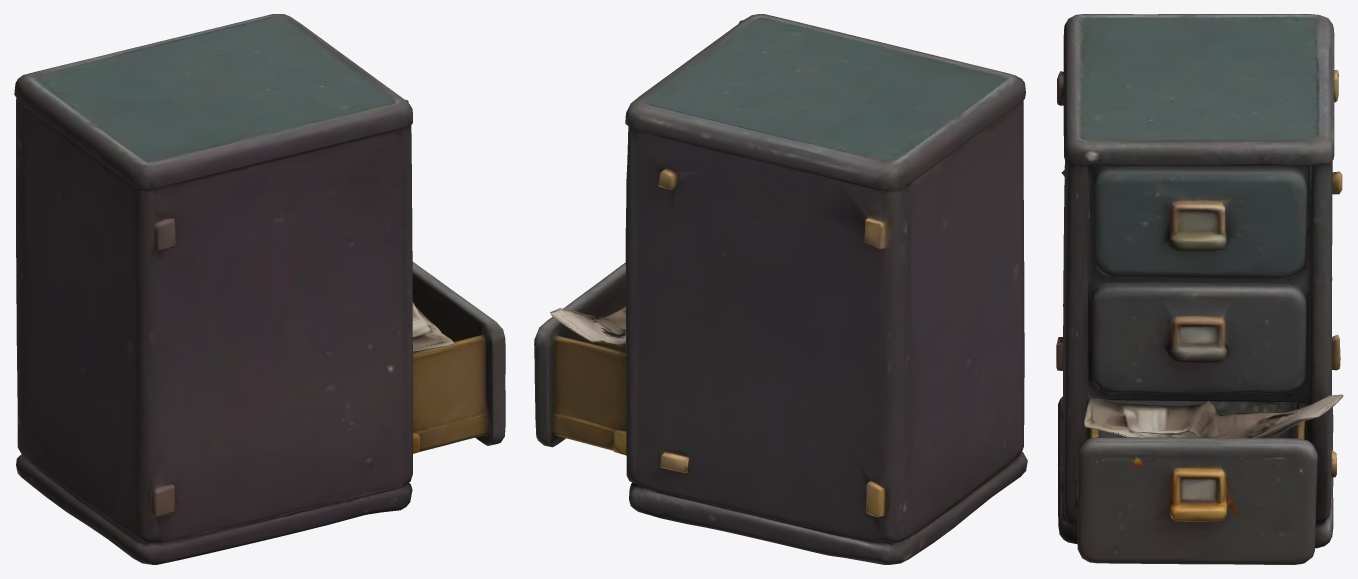
Rendered from deco_filing.glb.
3 renders of one model, left to right at view 1: azimuth 30°, elevation 25°; view 2: azimuth 150°, elevation 25°; view 3: azimuth 270°, elevation 25°, orthographic.
Visible parts, largest first — view 1: tripo_node_53f8adf1-fa86-4a44-9fe3-d17bd2440b68; view 2: tripo_node_53f8adf1-fa86-4a44-9fe3-d17bd2440b68; view 3: tripo_node_53f8adf1-fa86-4a44-9fe3-d17bd2440b68.
Boxes of the visible parts, x1,y1,x2,y2 form: tripo_node_53f8adf1-fa86-4a44-9fe3-d17bd2440b68: [14, 14, 505, 564]; tripo_node_53f8adf1-fa86-4a44-9fe3-d17bd2440b68: [534, 14, 1027, 564]; tripo_node_53f8adf1-fa86-4a44-9fe3-d17bd2440b68: [1056, 14, 1343, 564].
Size of the model in its own units: 0.9998 by 0.9953 by 0.6326.
1 material, 1 textured.
